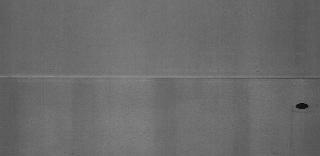punching hole: (291, 100, 313, 112)
welding line: (2, 72, 320, 88)
